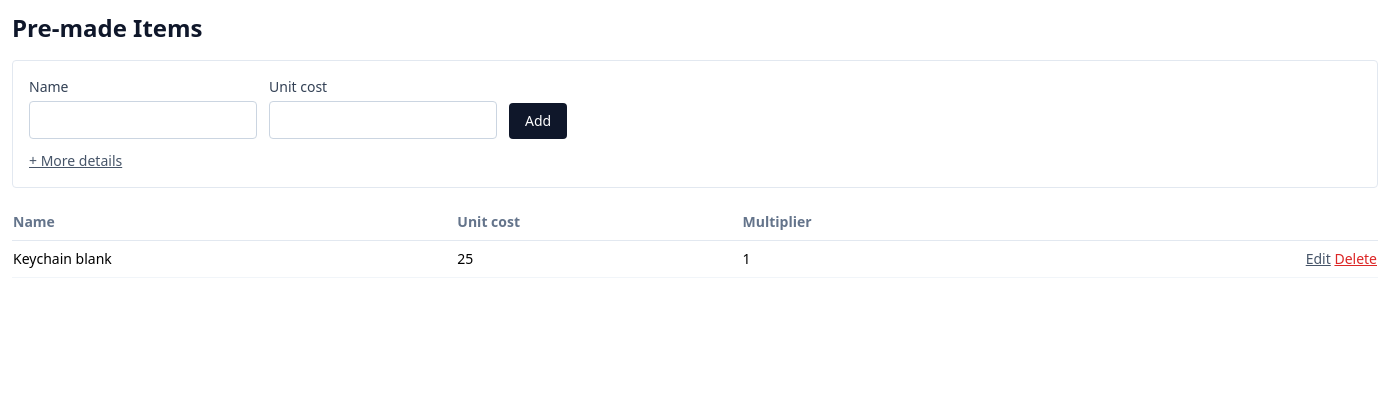
PremadeItemsListPage — edit in place › clicking Edit shows that row pre-filled with its current values
Expected: the text "Keychain blank" is shown, [12,240,456,278]
Click the button "Edit" at (1318, 259), box [1306,249,1331,269]
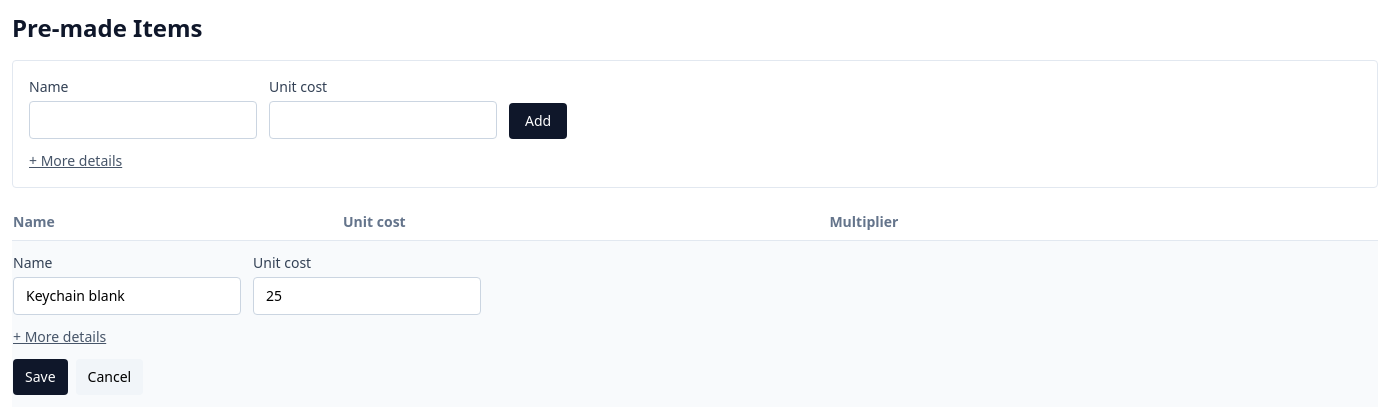
Now the 2nd field labelled "Name" holds "Keychain blank", box [13,277,241,315]
Now the 2nd number field labelled "Unit cost" holds "25", box [253,277,481,315]
